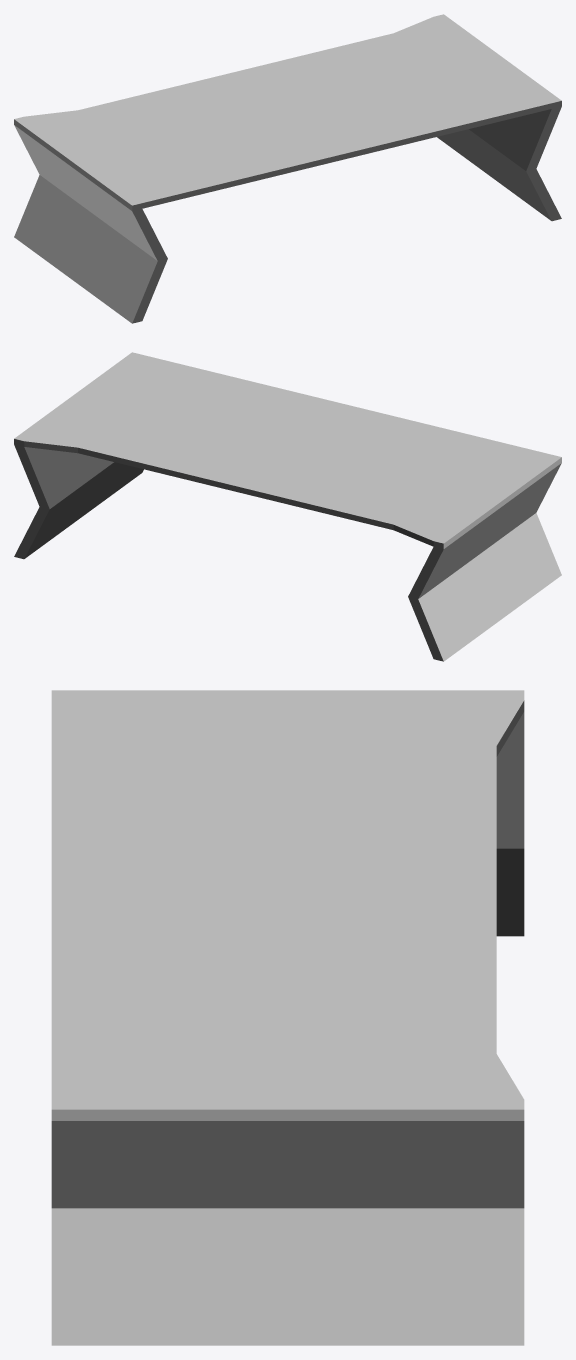
The model's file is Desk.fbx.
The picture shows the model from 3 angles, top to bottom: view 1: azimuth 30°, elevation 25°; view 2: azimuth 150°, elevation 25°; view 3: azimuth 270°, elevation 25°; orthographic projection. The views are drawn at different scales.
Visible parts, largest first — view 1: Cube; view 2: Cube; view 3: Cube.
Part boxes in pixels (box(x1,y1,x2,y2)): Cube: box(14, 14, 561, 323); Cube: box(14, 352, 561, 661); Cube: box(51, 690, 524, 1345).
Bounding box in the file's own units: 420 × 110 × 200.
1 material, 1 textured.
